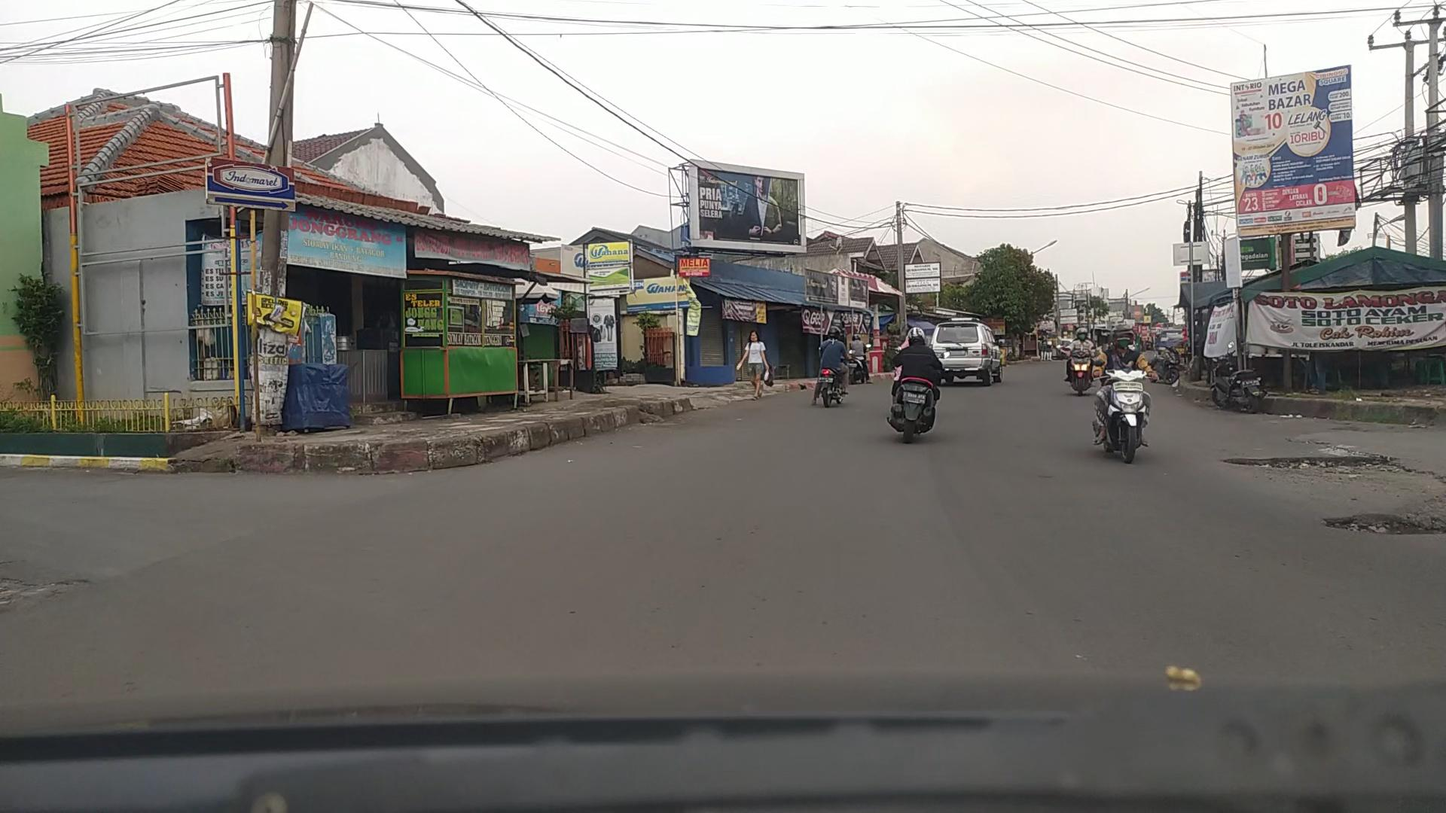pothole: (0, 575, 92, 614), (1322, 511, 1446, 538), (1221, 453, 1396, 471)
